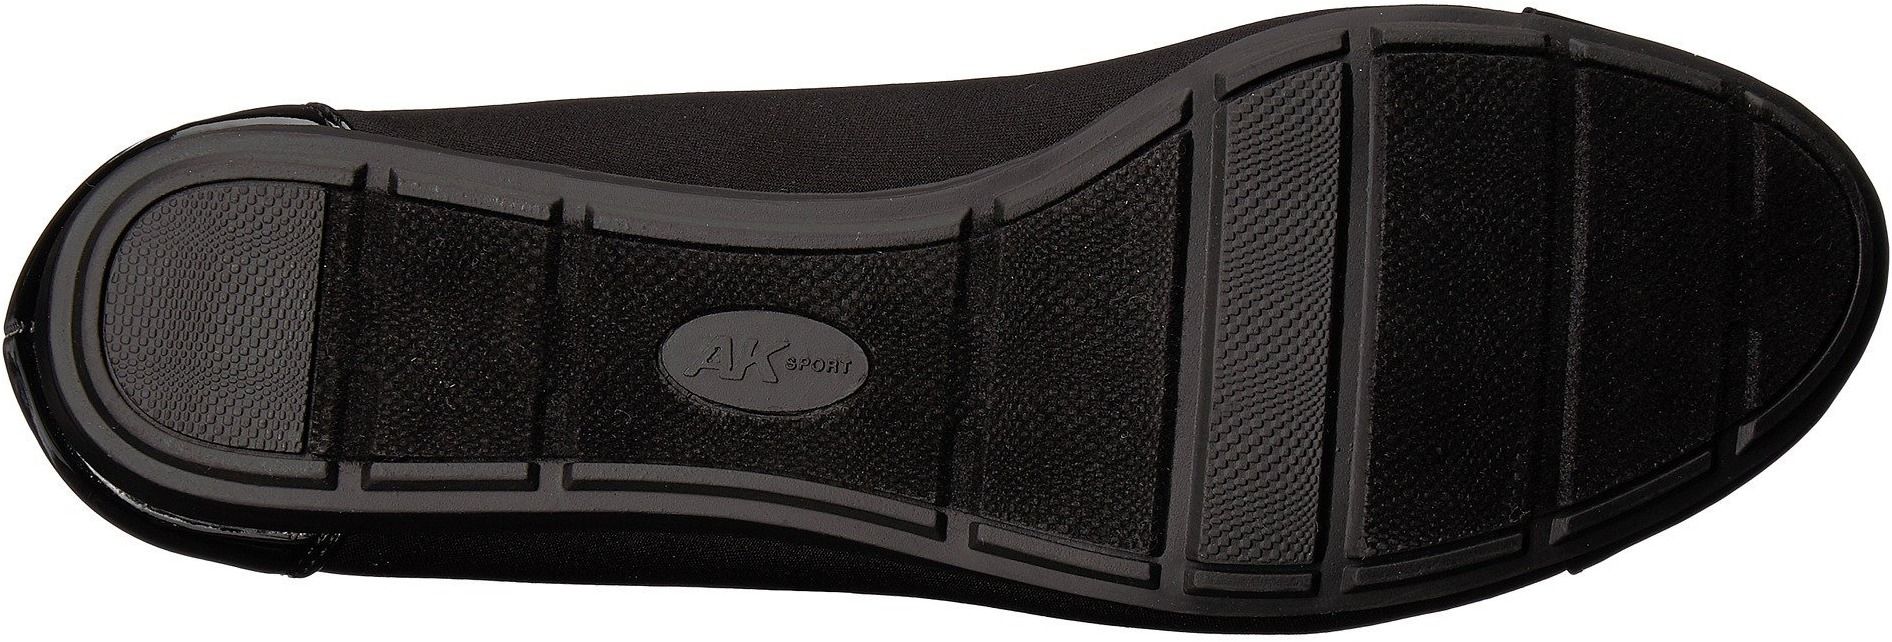circle: (646, 292, 883, 440)
line: (1488, 112, 1795, 395), (1128, 189, 1417, 472), (240, 224, 446, 398), (483, 258, 632, 421)
quad: (1488, 112, 1795, 395), (1128, 189, 1417, 472), (240, 224, 446, 398), (483, 258, 632, 421), (113, 268, 224, 395)
text: (646, 292, 883, 440)
